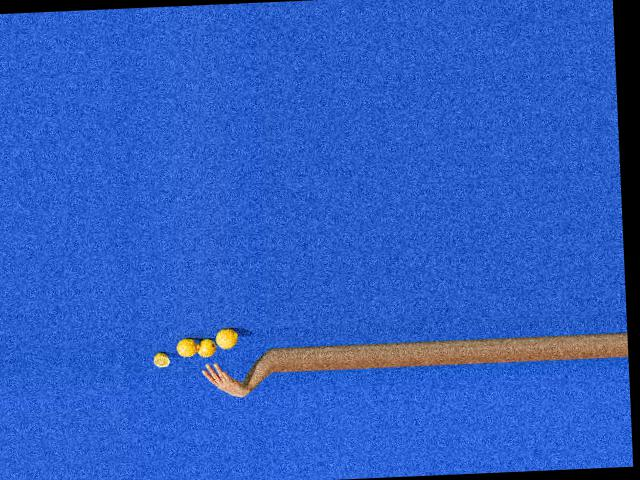lemon: (174, 340, 199, 357)
